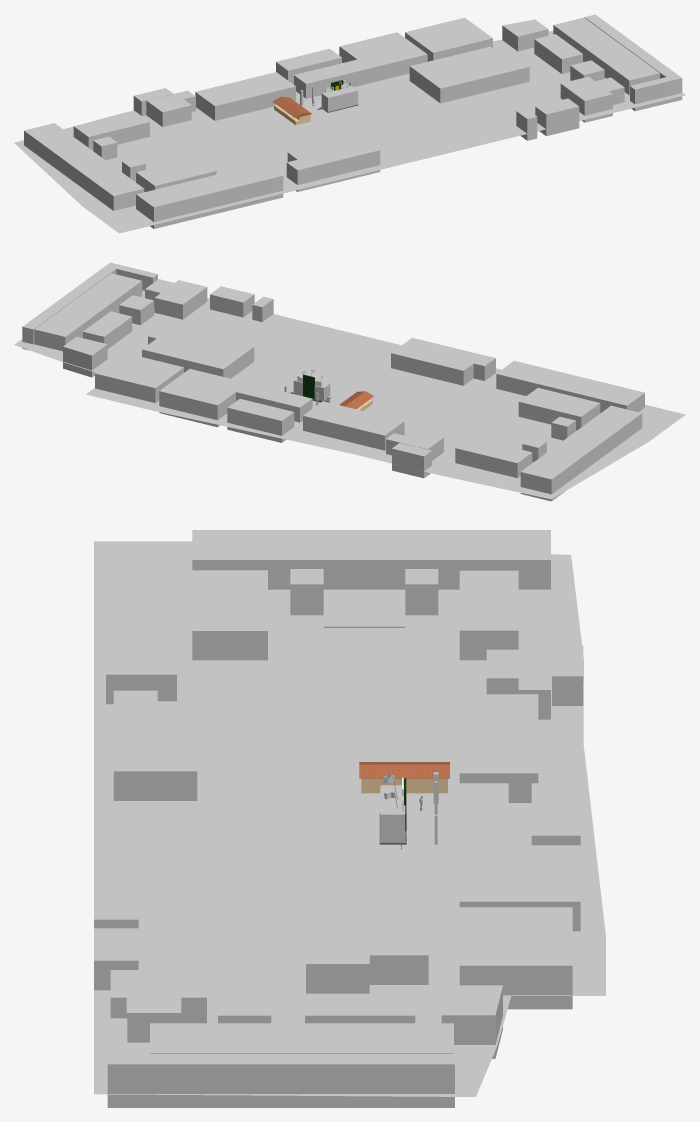
The model's file is compund.glb.
The picture shows the model from 3 angles, top to bottom: view 1: azimuth 30°, elevation 25°; view 2: azimuth 150°, elevation 25°; view 3: azimuth 270°, elevation 25°; orthographic projection. The views are drawn at different scales.
Parts seen in each view (by area): view 1: Plane, Cube.020, Cube.021, Cube.007, Cube.004, Cube.019, Cube.008, Cube.003, Cube.005, Cube.012, Cube.011, Cube.016 (+12 smaller); view 2: Plane, Cube.021, Cube.004, Cube.007, Cube.020, Cube.008, Cube.019, Cube.003, Cube.005, Cube.022, Cube.016, Cube.006 (+11 smaller); view 3: Plane, Cube.012, Cube.021, Cube.007, Cube.004, Cube.005, Cube.020, Cube.008, Cube.019, Cube.003, Cube.022, Cube.011 (+14 smaller).
Part boxes in pixels (x1,y1,x2,y2): Plane: [14, 31, 685, 233]; Cube.020: [136, 163, 283, 228]; Cube.021: [24, 123, 144, 210]; Cube.007: [409, 46, 529, 103]; Cube.004: [294, 32, 427, 98]; Cube.019: [286, 135, 380, 191]; Cube.008: [553, 17, 659, 95]; Cube.003: [195, 72, 295, 120]; Cube.005: [405, 17, 492, 61]; Cube.012: [584, 14, 682, 111]; Cube.011: [560, 76, 624, 122]; Cube.016: [73, 111, 149, 150]; Plane: [14, 290, 685, 499]; Cube.021: [520, 405, 642, 501]; Cube.004: [159, 369, 312, 427]; Cube.007: [142, 324, 254, 378]; Cube.020: [496, 360, 644, 413]; Cube.008: [34, 273, 142, 351]; Cube.019: [391, 337, 495, 385]; Cube.003: [303, 401, 404, 450]; Cube.005: [95, 352, 183, 402]; Cube.022: [518, 388, 600, 430]; Cube.016: [455, 437, 532, 478]; Cube.006: [227, 399, 294, 442]; Plane: [94, 541, 605, 1096]; Cube.012: [107, 1018, 454, 1107]; Cube.021: [192, 530, 550, 589]; Cube.007: [306, 876, 428, 993]; Cube.004: [459, 783, 580, 931]; Cube.005: [459, 907, 572, 1009]; Cube.020: [106, 548, 176, 704]; Cube.008: [150, 1023, 453, 1053]; Cube.019: [113, 690, 197, 800]; Cube.003: [459, 694, 538, 802]; Cube.022: [192, 570, 267, 660]; Cube.011: [110, 970, 206, 1042].
Bounding box in the file's own units: 151 × 8.59 × 58.97.
11 materials, 1 textured.
